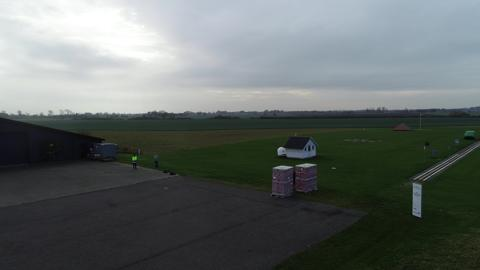RockwoolPallet: (297, 164, 318, 192)
